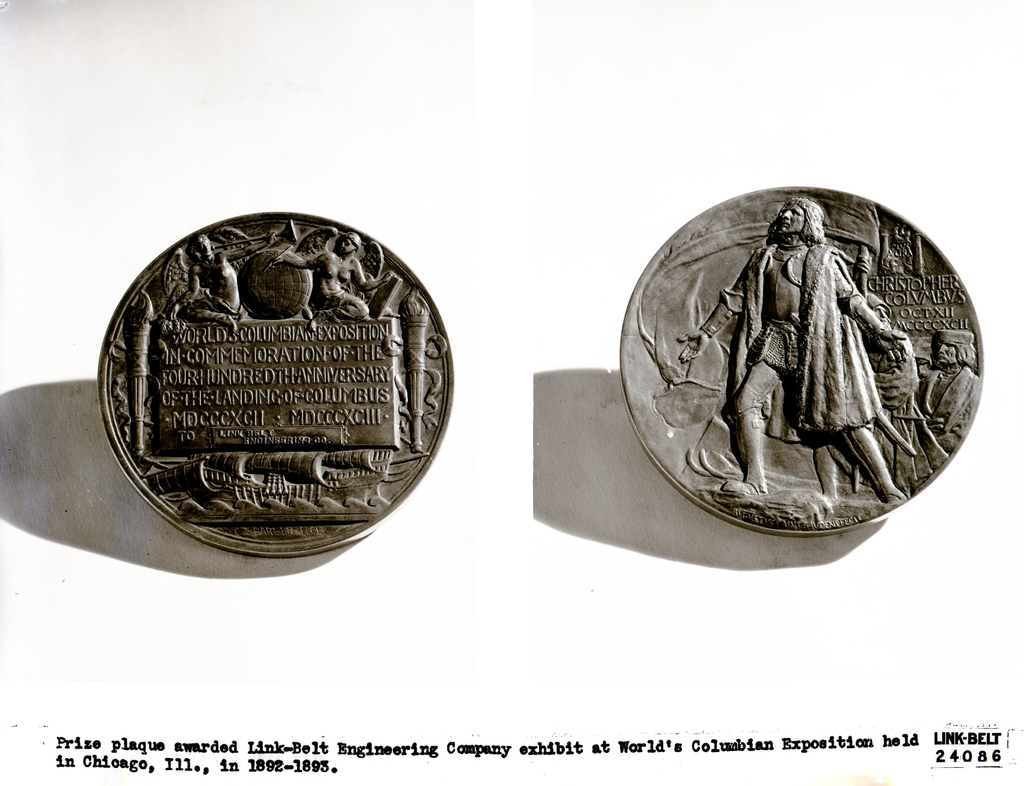Coin: (618, 185, 984, 537), (97, 211, 454, 558)
